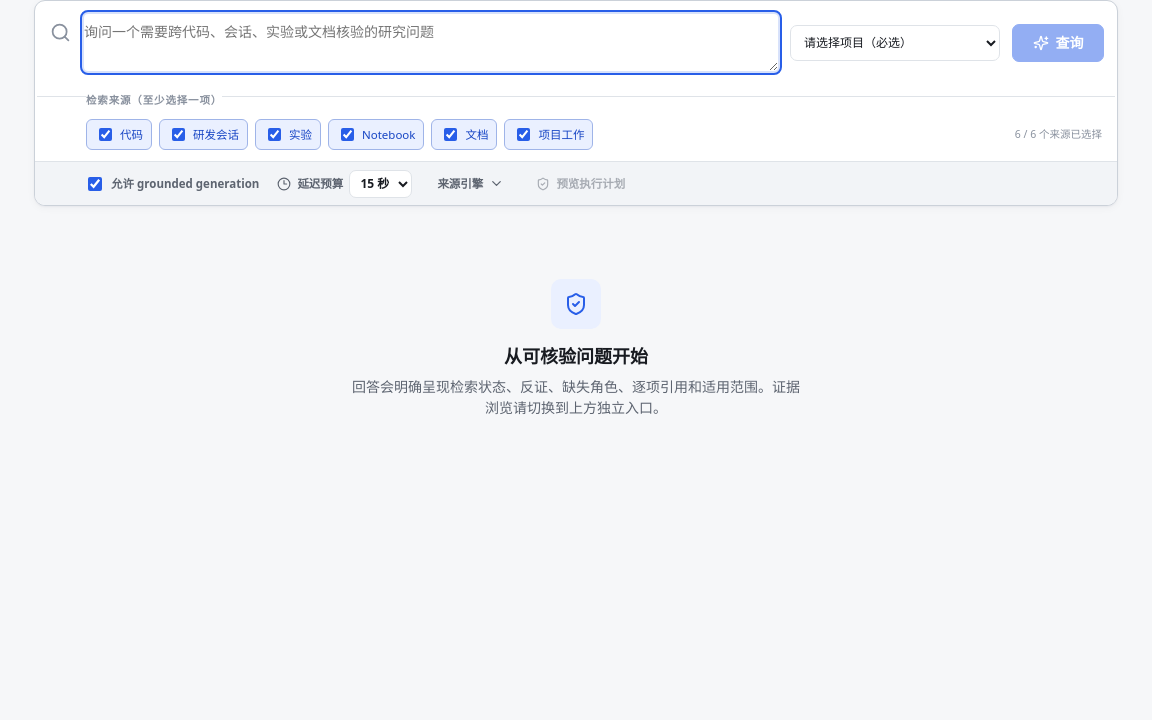
Scenario: TrustedQueryPanel › fails closed in the UI for an unknown response state
Select "Evidence RAG" in the dropdown named "可信查询项目" at (895, 43), box [790,25,1000,61]
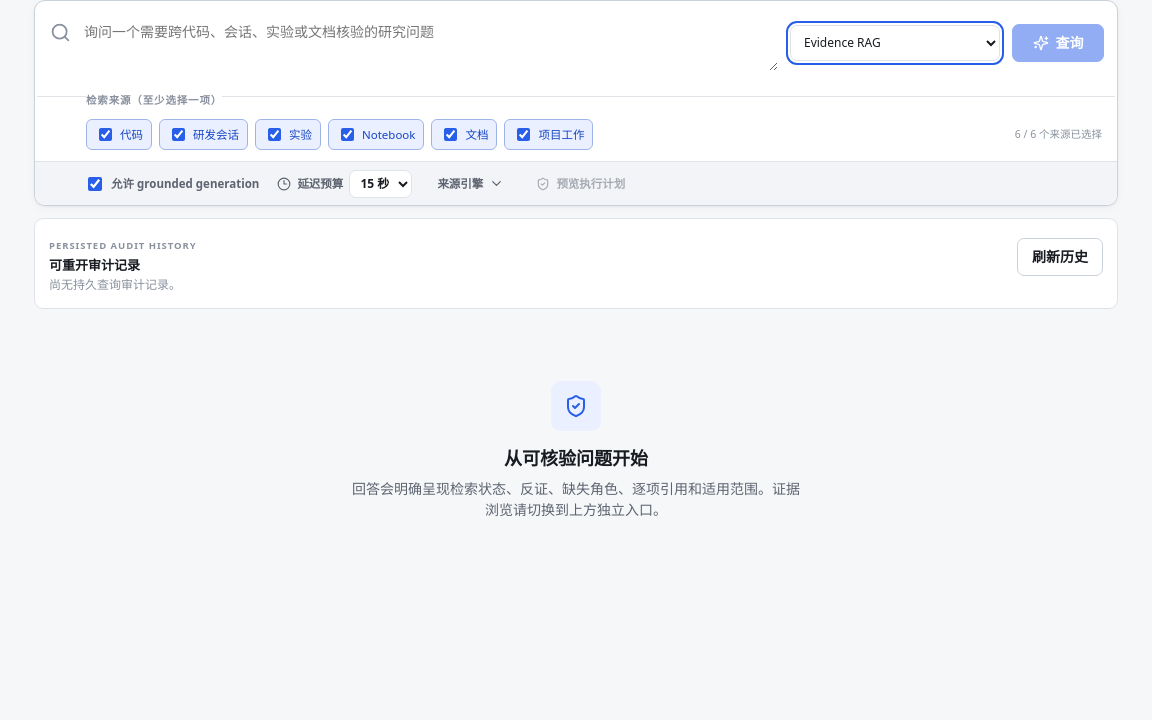
Type "Check drift." into the text box named "可信查询问题" at (431, 43), box [84,14,778,71]
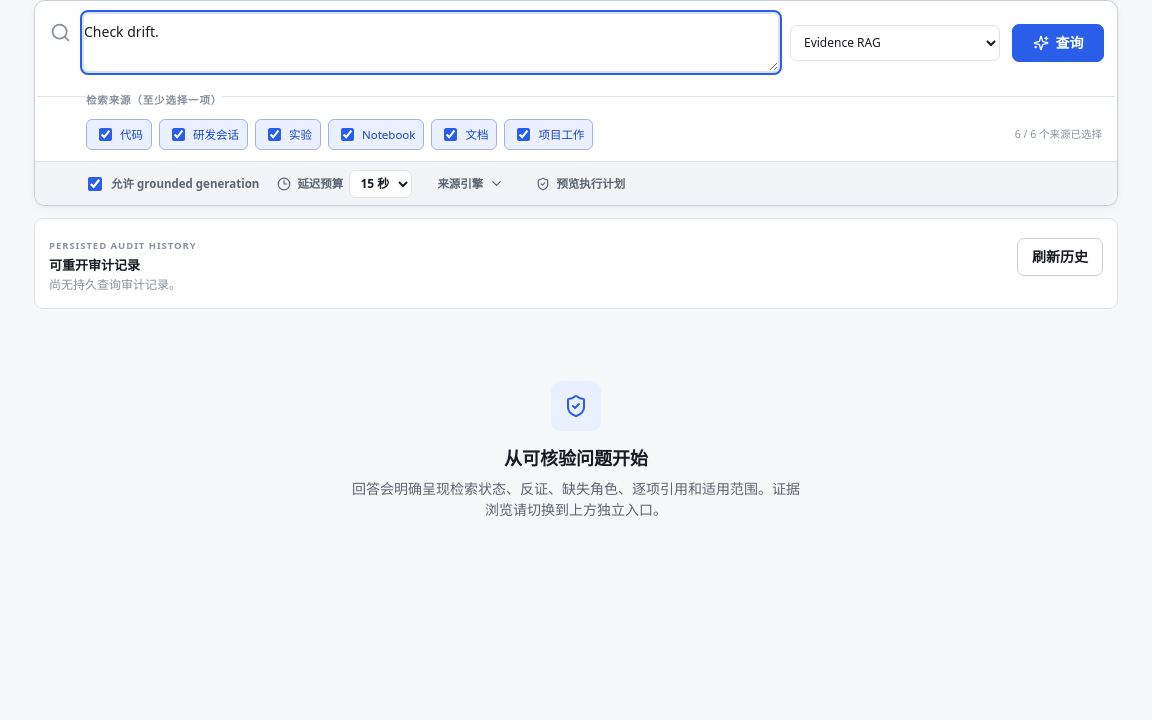
Click the button "查询" at (1058, 43), box [1012,24,1104,62]
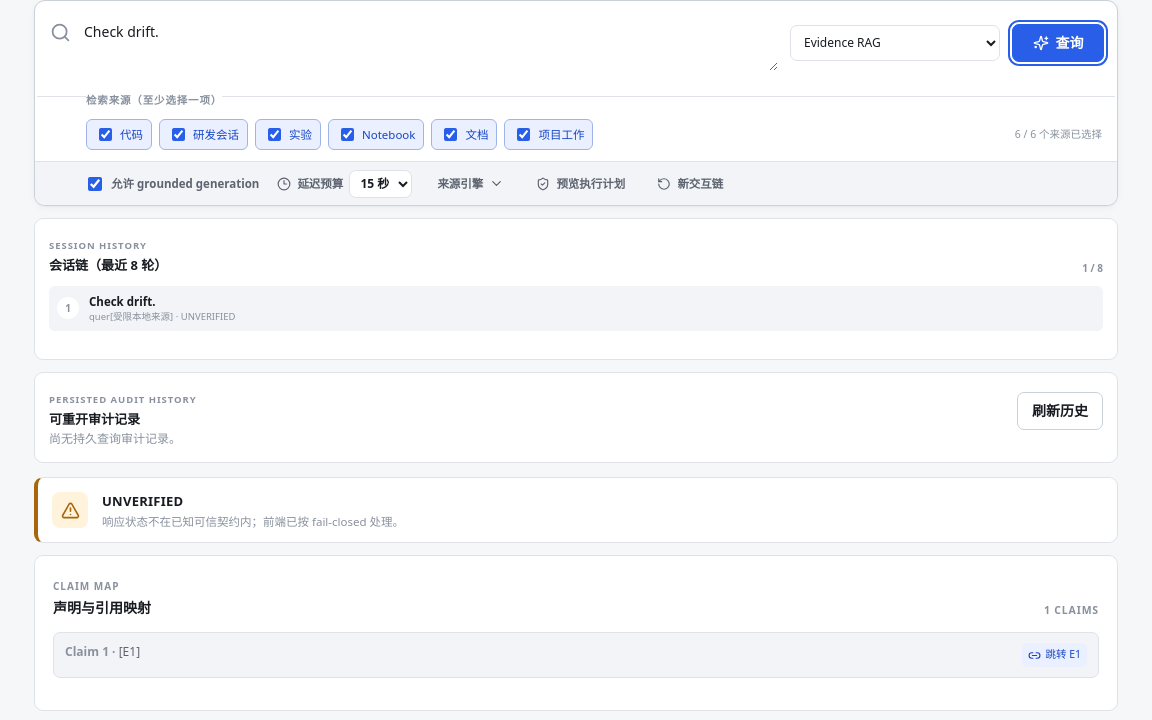
Check: the text "UNVERIFIED" is shown, box [102,492,184,510]
